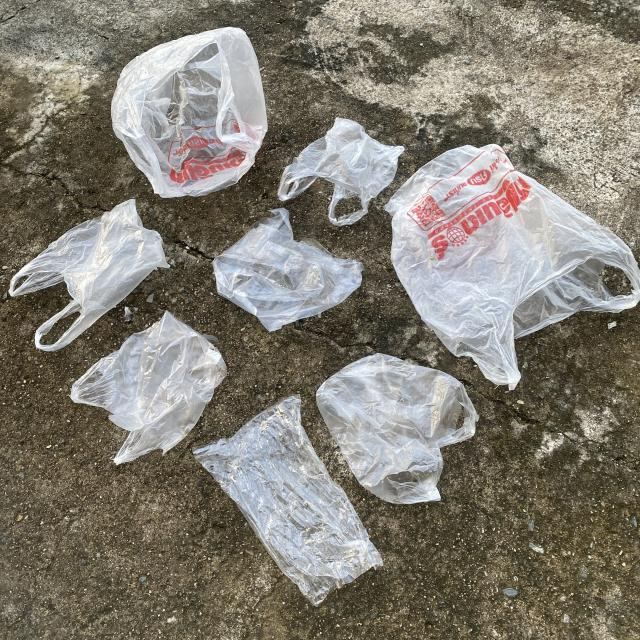Single-layer Plastic: (385, 144, 640, 390), (194, 396, 382, 606), (111, 28, 268, 198), (9, 199, 170, 351), (316, 354, 479, 504), (70, 311, 226, 464), (212, 209, 362, 331), (278, 118, 404, 226)
